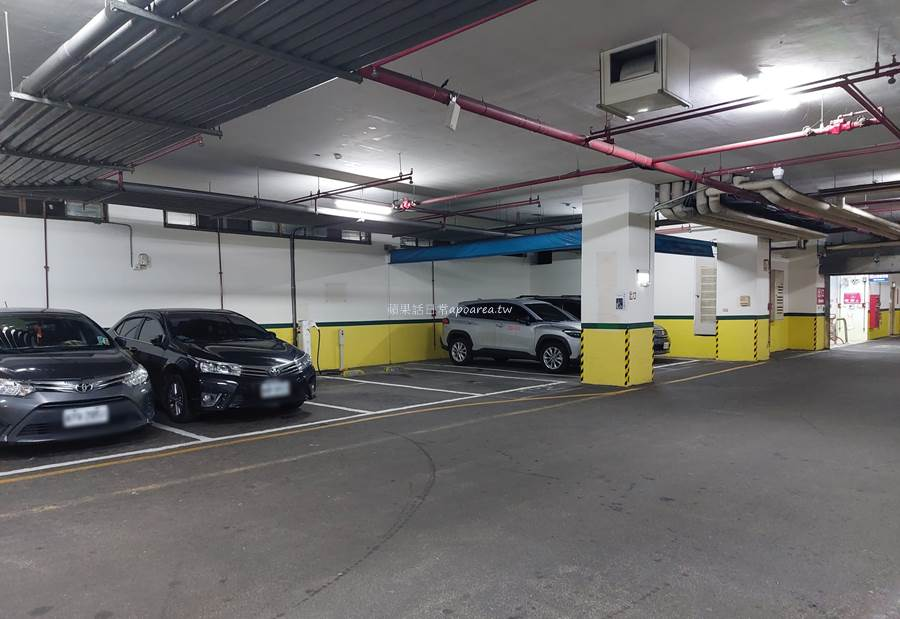car: (134, 296, 322, 428), (1, 295, 157, 450), (440, 284, 582, 372)
